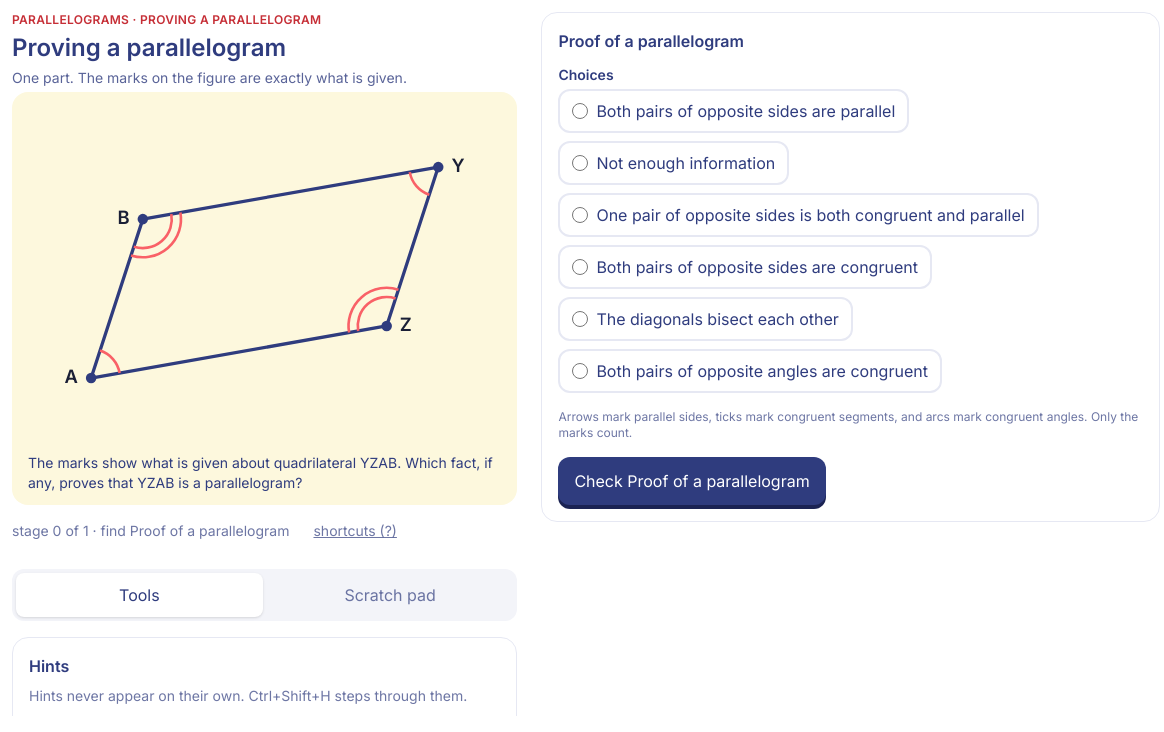
Test: GeometryFlow unit 5 geoParallelograms/gq.prove › an unreadable answer records nothing
What coordinates should you click on to do the following:
click the button "Check Proof of a parallelogram"
I would click on:
 (692, 481)
Its box is left=558, top=457, right=826, bottom=505.
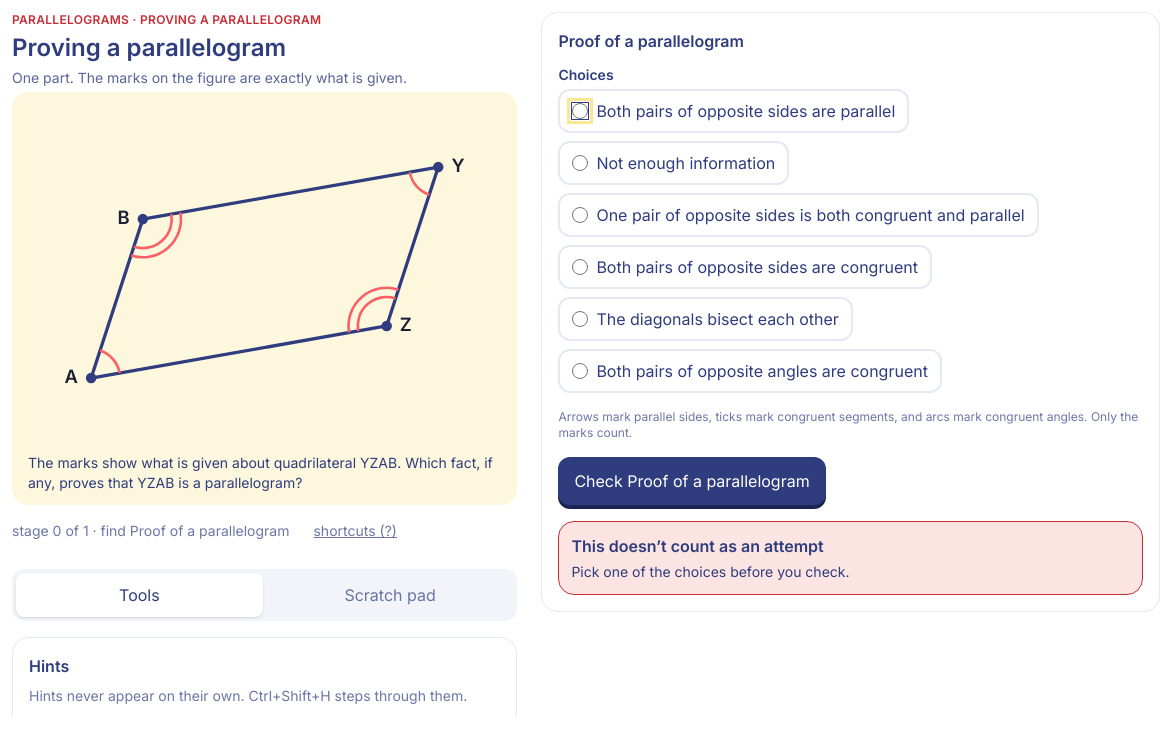
Result: the message shows "This doesn’t count as an attempt" at left=571, top=536, right=824, bottom=556
